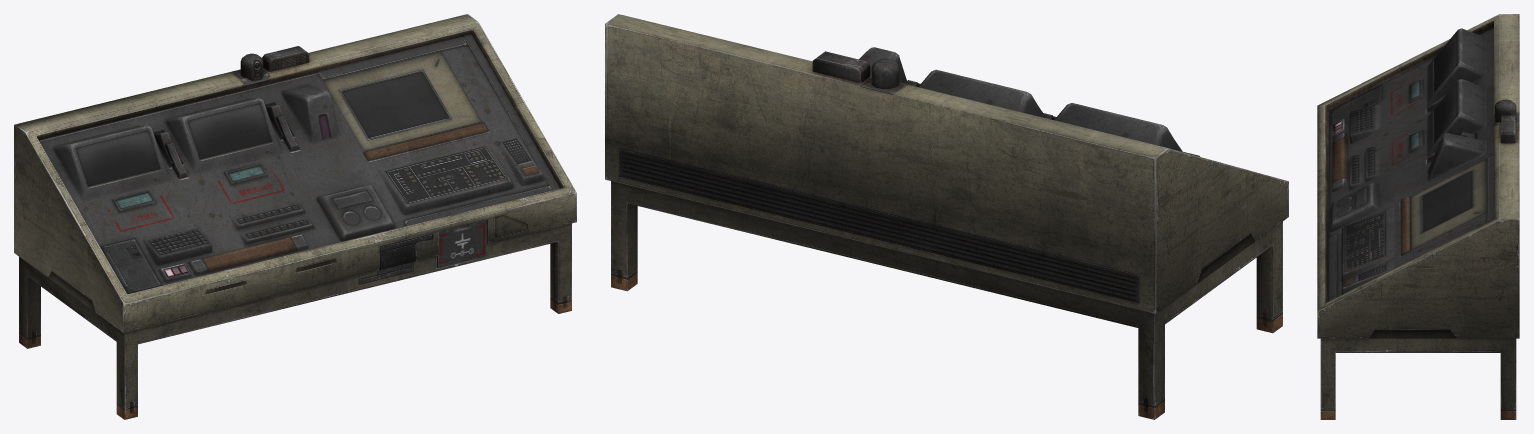
Rendered from computer_table.dae.
3 views of the same model, side by side, from view 1: azimuth 30°, elevation 25°; view 2: azimuth 150°, elevation 25°; view 3: azimuth 270°, elevation 25° (orthographic). The views are drawn at different scales.
Parts seen in each view (by area): view 1: computer_table, computer_table_plate; view 2: computer_table; view 3: computer_table.
Boxes of the visible parts, x1=… form: computer_table: x1=14, y1=14, x2=576, y2=419; computer_table_plate: x1=437, y1=220, x2=486, y2=268; computer_table: x1=605, y1=14, x2=1288, y2=419; computer_table: x1=1317, y1=14, x2=1519, y2=419.
Size of the model in its own units: 3 by 1.49 by 1.25.
